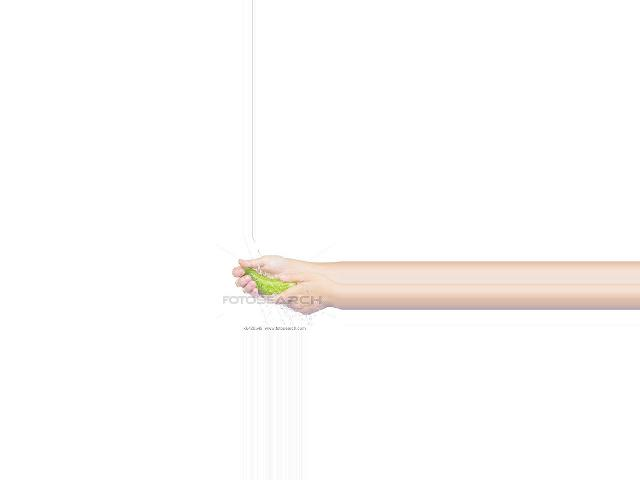cucumber: (242, 267, 298, 296)
